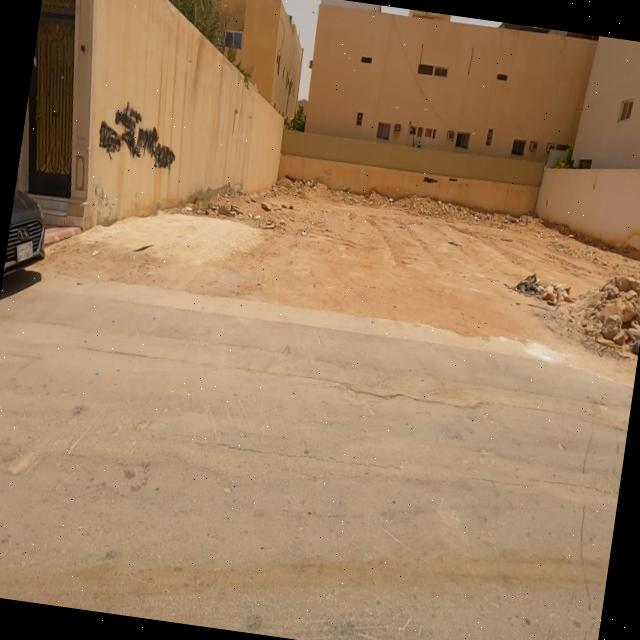Graffiti: (95, 98, 185, 180)
